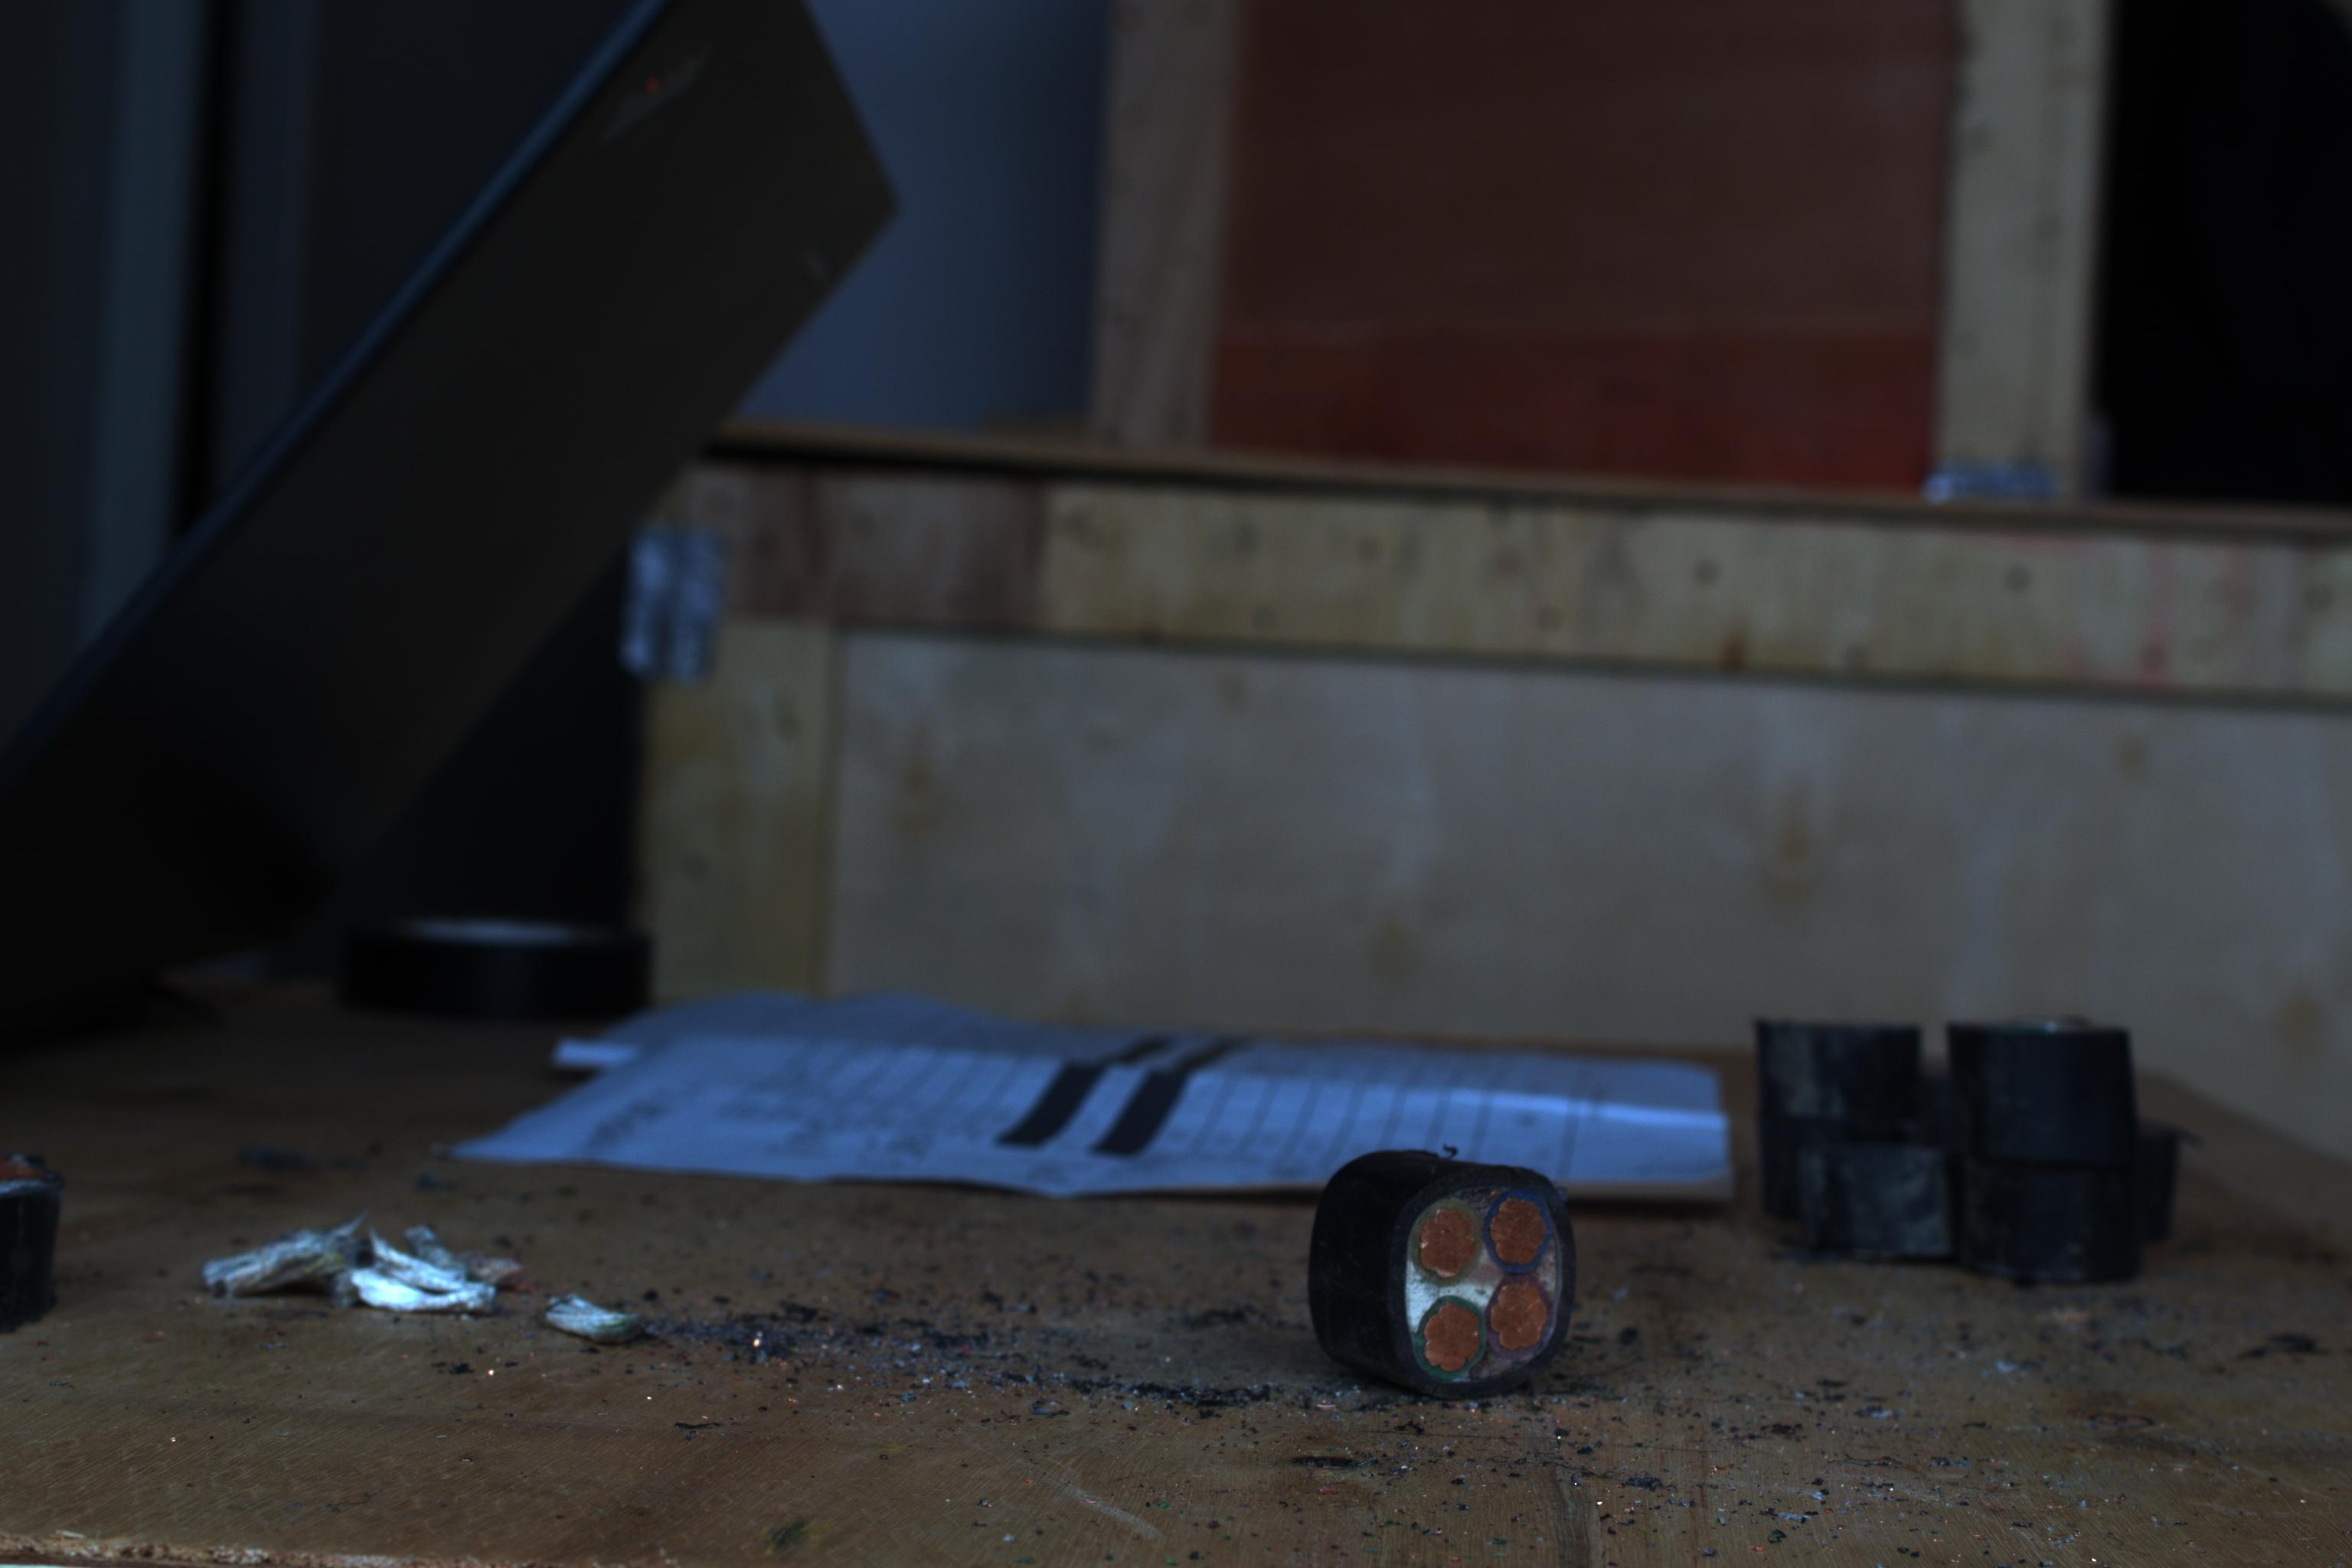YJV_0.6_1kV_4x35: (1384, 1158, 1592, 1391)
